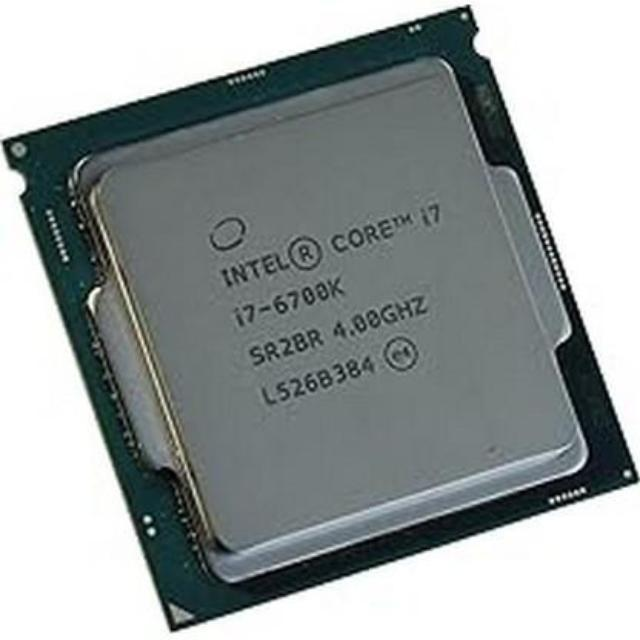CPU: (0, 23, 611, 608)
